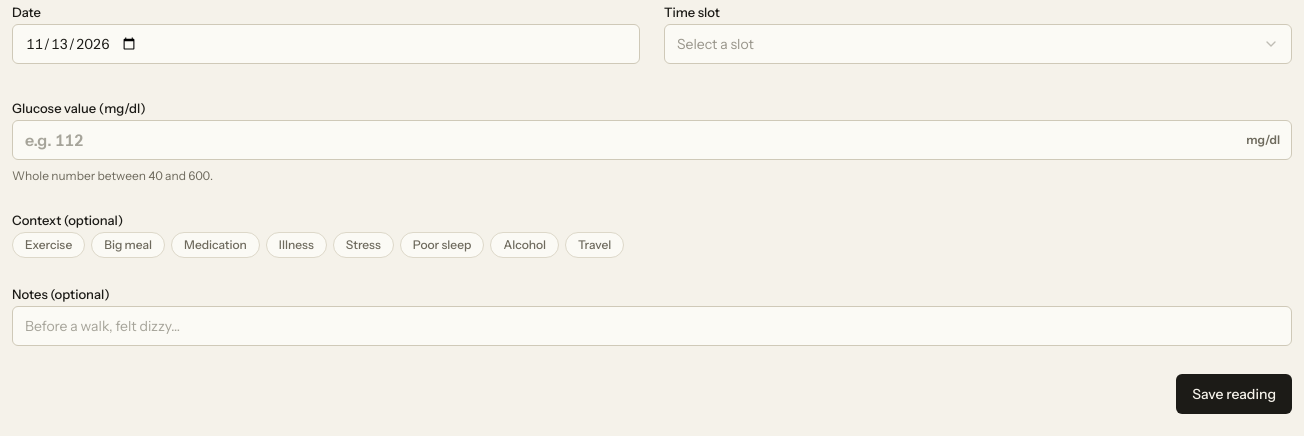
it: ReadingForm › shows "Please enter a glucose value." when the value is empty
This screenshot has width=1304, height=436.
Click the dropdown named "time slot" at (715, 44), box [664, 24, 1292, 64]
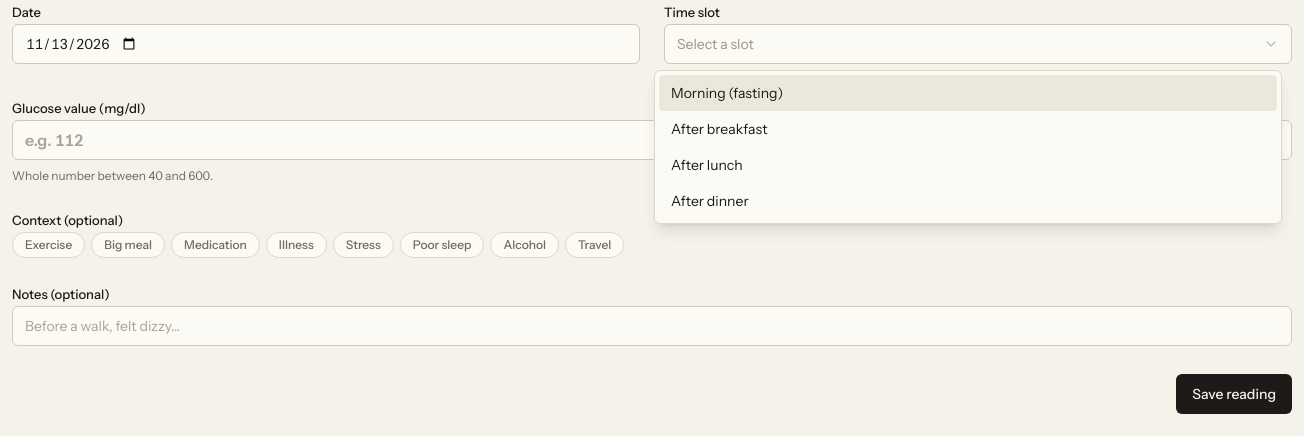
Click the option "Morning (fasting)" at (727, 93), box [659, 75, 1277, 111]
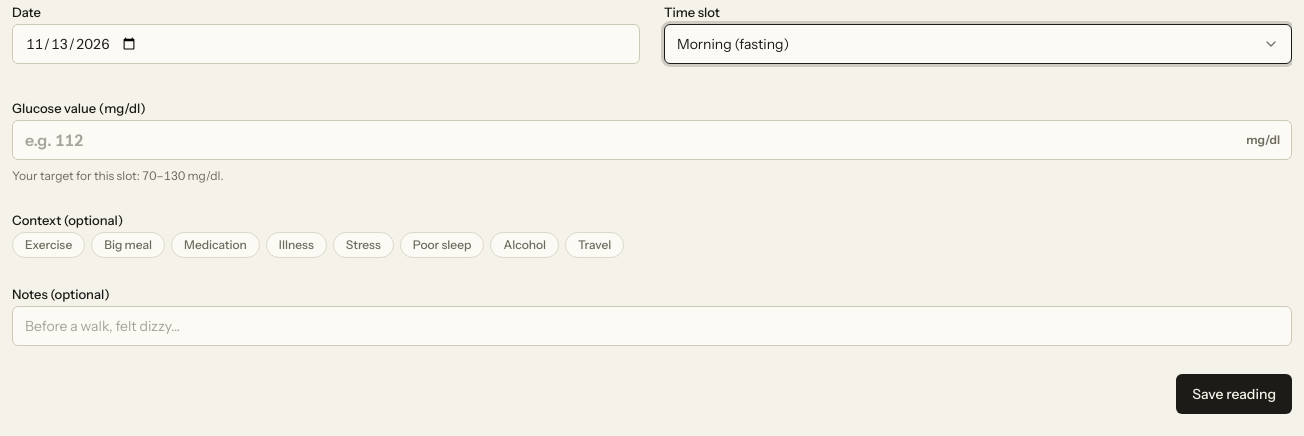
Click the button "Save reading" at (1234, 394), box [1176, 374, 1292, 414]
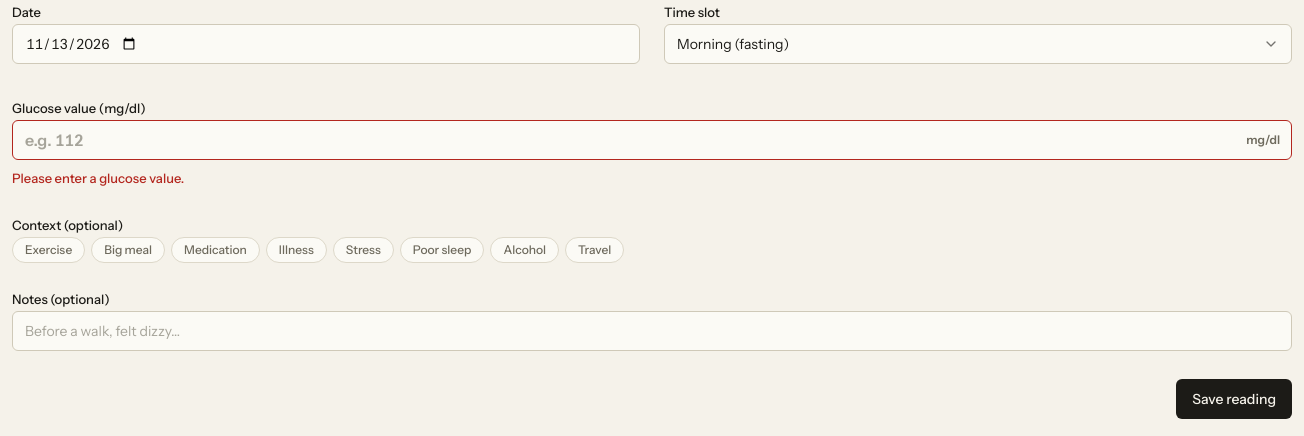
Check: the text "Please enter a glucose value." is shown, box [12, 170, 184, 186]
